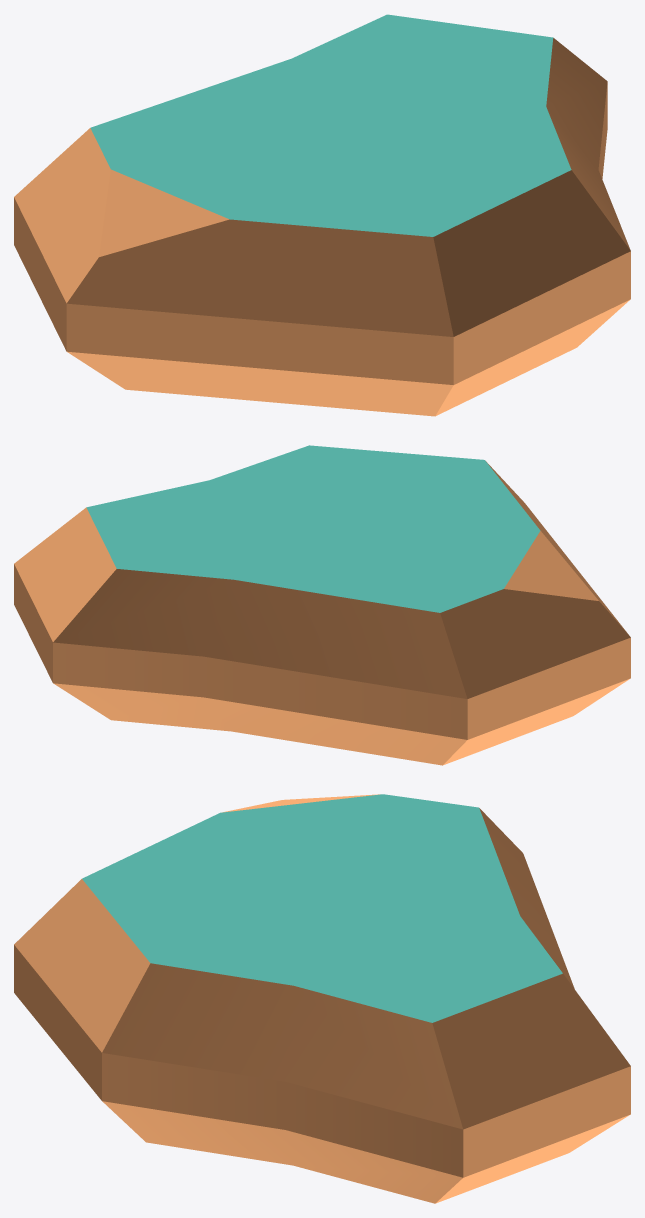
File: rock_large5.obj
3 views of the same model, one above another, from view 1: azimuth 30°, elevation 25°; view 2: azimuth 150°, elevation 25°; view 3: azimuth 270°, elevation 25° (orthographic). The views are drawn at different scales.
Visible parts, largest first — view 1: rock_large5; view 2: rock_large5; view 3: rock_large5.
Part boxes in pixels (x1,y1,x2,y2): rock_large5: (14,14,630,416); rock_large5: (14,445,630,765); rock_large5: (14,794,630,1203).
Size of the model in its own units: 10.95 by 2.92 by 9.2.
